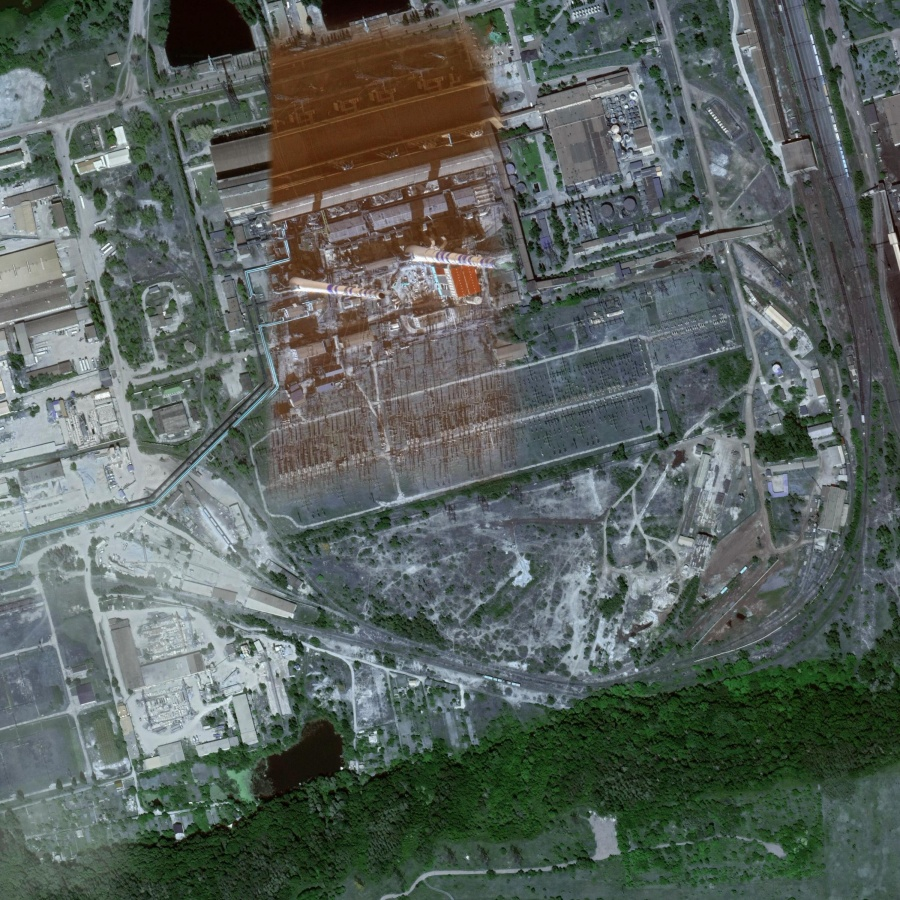PowerPlant: (234, 118, 574, 387)
